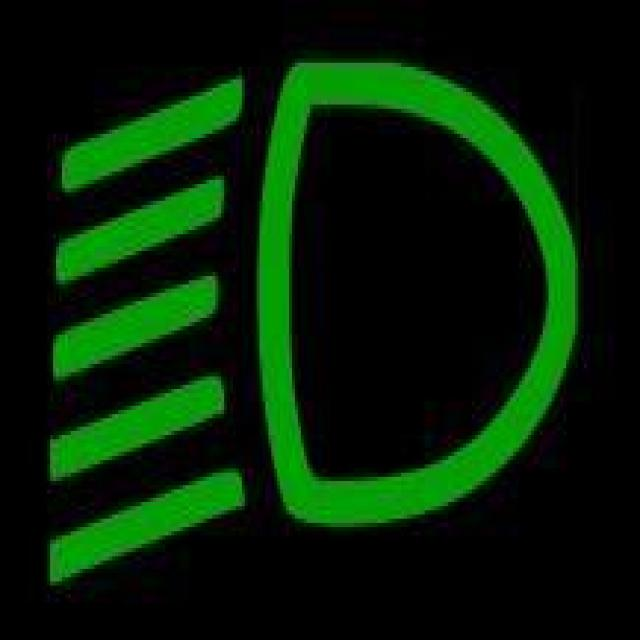kontrolka: (25, 44, 590, 602)
